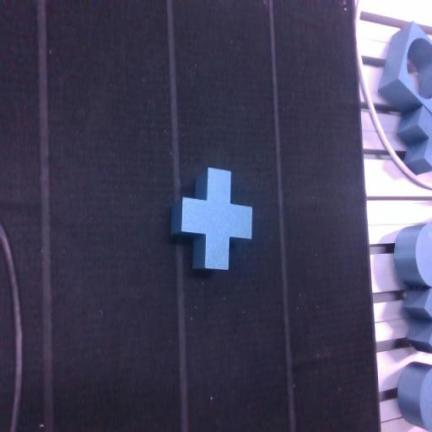cross: (172, 168, 252, 269)
